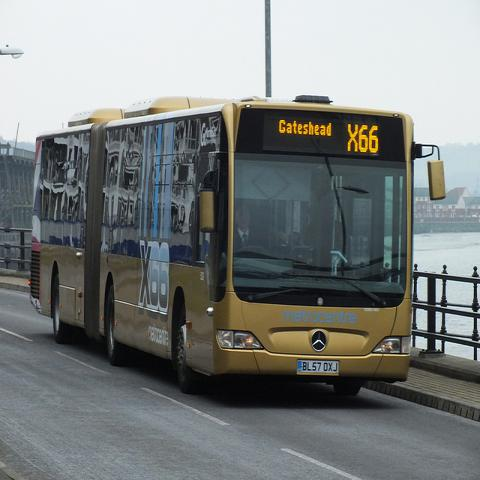bus: (30, 94, 445, 398)
